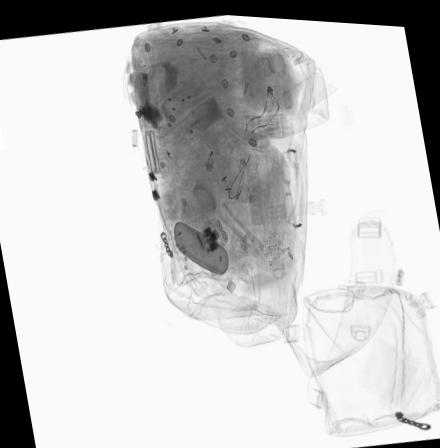Lighter: (200, 123, 225, 172)
